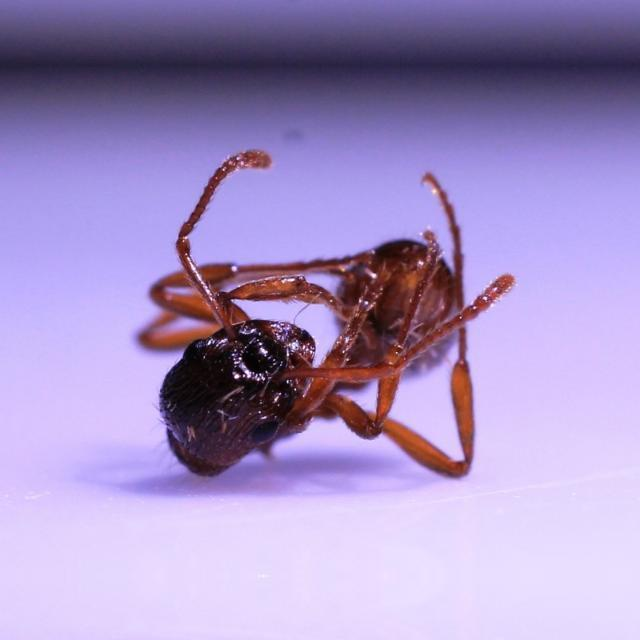Myrmica: (126, 194, 564, 503)
